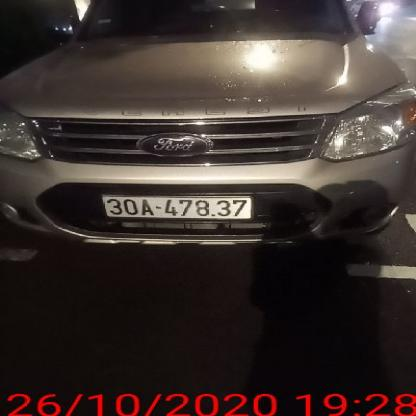biensoxe: (102, 185, 260, 225)
